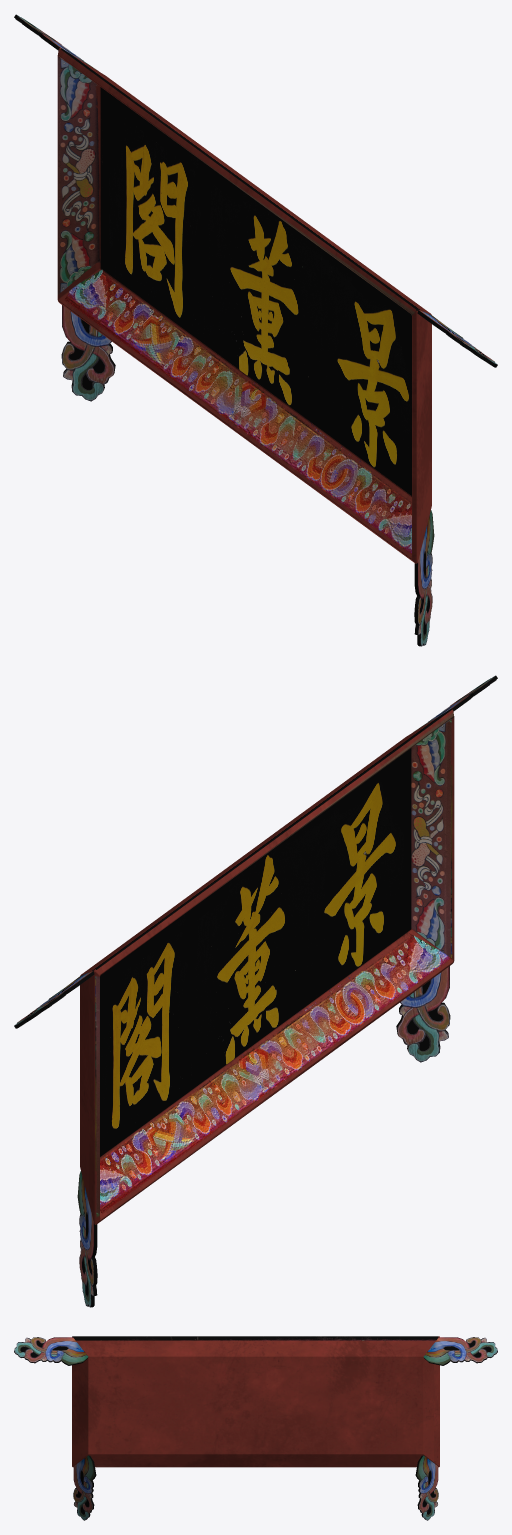
The model's file is SM_Stela04E.fbx.
3 views of the same model, one above another, from view 1: azimuth 30°, elevation 25°; view 2: azimuth 150°, elevation 25°; view 3: azimuth 270°, elevation 25° (orthographic). The views are drawn at different scales.
Visible parts, largest first — view 1: SM_Stela04E; view 2: SM_Stela04E; view 3: SM_Stela04E.
Part boxes in pixels (x1,y1,x2,y2): SM_Stela04E: (14,14,497,646); SM_Stela04E: (14,675,497,1307); SM_Stela04E: (14,1336,497,1520).
Size of the model in its own units: 17.86 by 320 by 131.
1 material, 1 textured.
